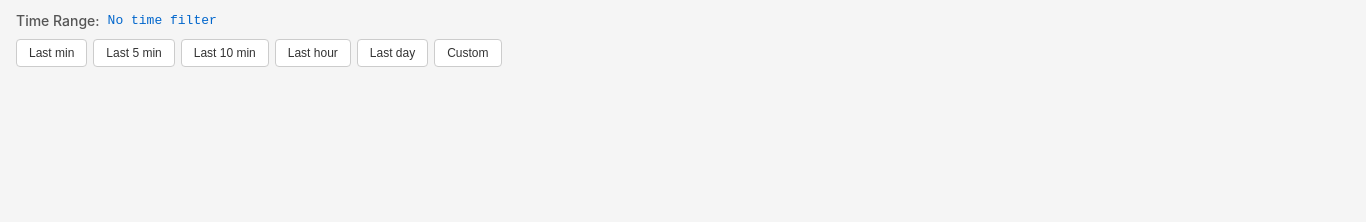
TimeFilter › custom filter › shows error for invalid start time
Click the button "Custom" at (468, 53), box [434, 39, 502, 67]
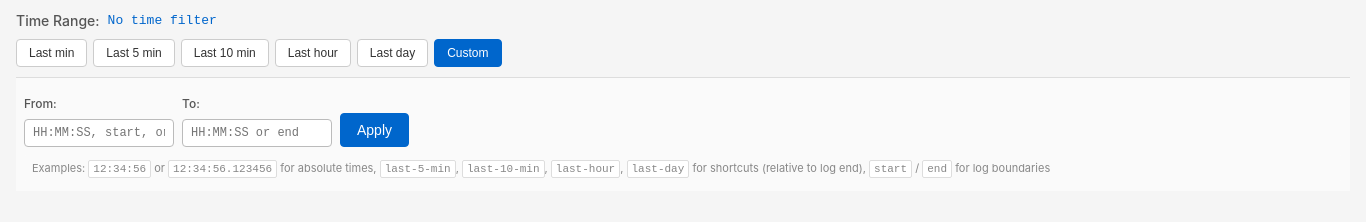
Type "invalid-time" into the field labelled "From:" at (99, 133), box [24, 119, 174, 147]
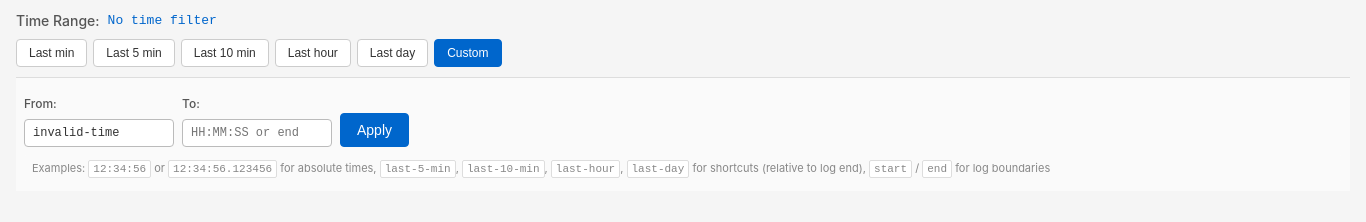
Click the button "Apply" at (374, 130), box [340, 113, 409, 147]
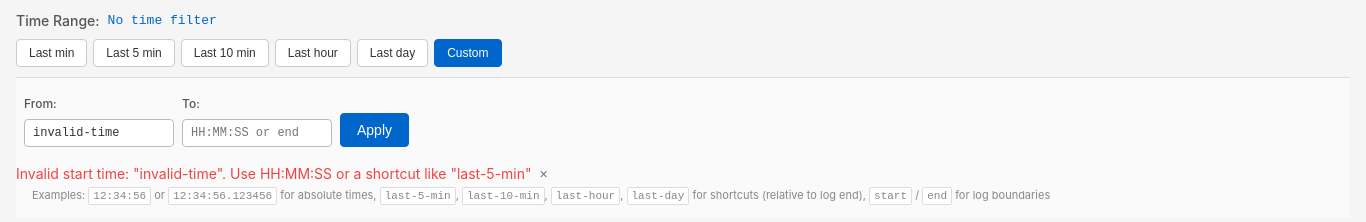
Check: the text "Invalid start time" is shown, box [16, 165, 532, 182]
